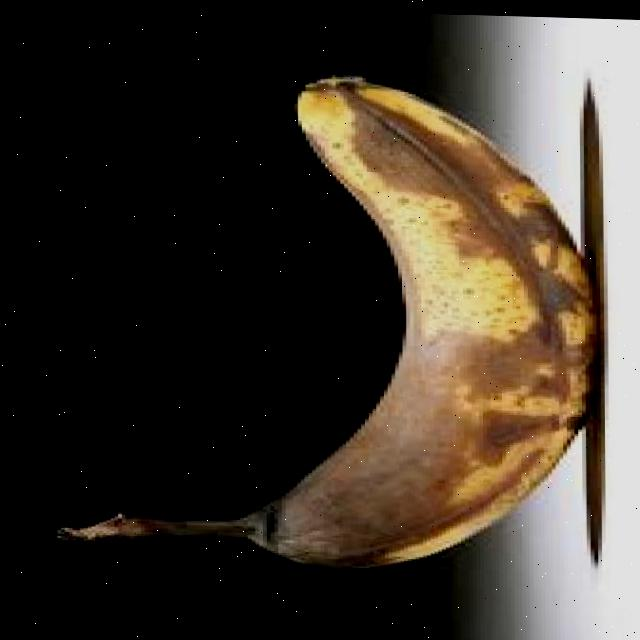banana: (49, 47, 613, 587)
